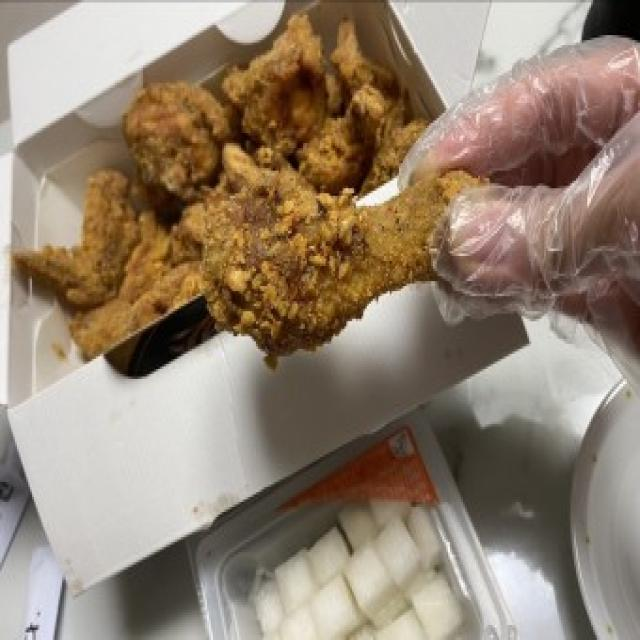Frango: (4, 21, 462, 362)
